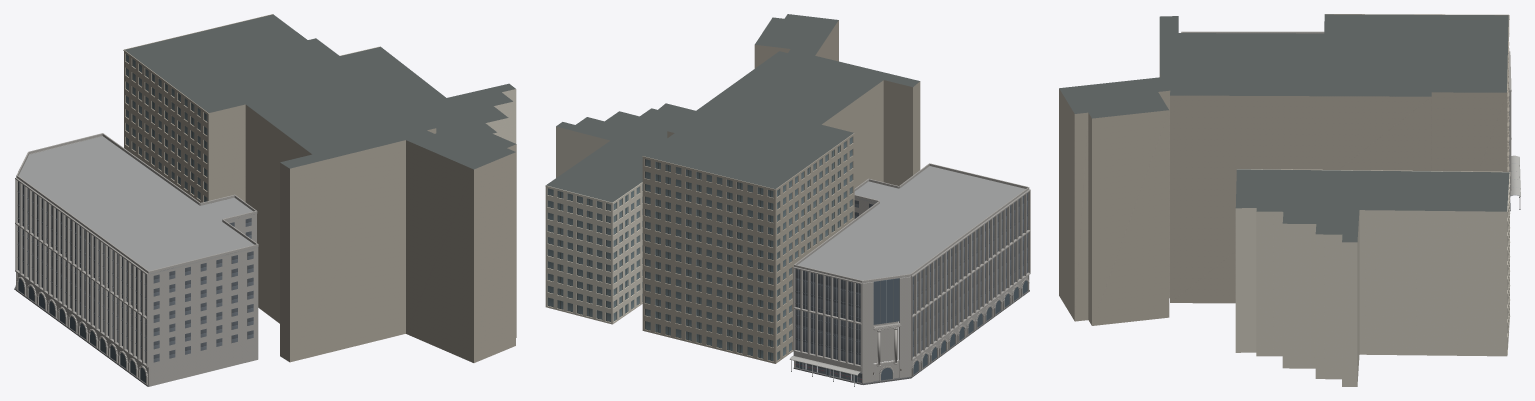
File: near.gltf
The picture shows the model from 3 angles, left to right: view 1: azimuth 30°, elevation 25°; view 2: azimuth 150°, elevation 25°; view 3: azimuth 270°, elevation 25°; orthographic projection. The views are drawn at different scales.
Visible parts, largest first — view 1: cell-e000-s001_near_tile-wall, cell-e000-s001_near_roof, SouthRoof_concrete.001, SouthUpper_pale-stone.001, SouthShell_pale-stone.001, SouthUpper_glazing.001, SouthShell_glazing.001, cell-e000-s001_near_glass, SouthUpper_metal.001, SouthRoof_pale-stone.001, SouthGround_pale-stone.001, SouthGround_glass-dark.001 (+3 smaller); view 2: cell-e000-s001_near_tile-wall, cell-e000-s001_near_roof, SouthUpper_pale-stone.001, cell-e000-s001_near_glass, SouthRoof_concrete.001, cell-e000-s001_near_plaster, SouthUpper_glazing.001, cell-e000-s001_near_frame, SouthUpper_metal.001, SouthGround_pale-stone.001, SouthRoof_pale-stone.001, SouthUpper_glazing-blinds.001 (+4 smaller); view 3: cell-e000-s001_near_tile-wall, cell-e000-s001_near_roof, cell-e000-s001_near_plaster, SouthRoof_pale-stone.001.
Part boxes in pixels (x1,y1,x2,y2): cell-e000-s001_near_tile-wall: (123,14,516,362); cell-e000-s001_near_roof: (125,14,516,169); SouthRoof_concrete.001: (18,136,257,274); SouthUpper_pale-stone.001: (15,136,149,367); SouthShell_pale-stone.001: (148,214,258,386); SouthUpper_glazing.001: (18,181,141,359); SouthShell_glazing.001: (153,218,253,362); cell-e000-s001_near_glass: (126,54,207,201); SouthUpper_metal.001: (19,182,146,363); SouthRoof_pale-stone.001: (16,133,258,273); SouthGround_pale-stone.001: (16,273,150,386); SouthGround_glass-dark.001: (18,279,146,382); cell-e000-s001_near_tile-wall: (642,20,920,363); cell-e000-s001_near_roof: (546,14,919,202); SouthUpper_pale-stone.001: (793,189,1030,383); cell-e000-s001_near_glass: (547,137,852,360); SouthRoof_concrete.001: (798,166,1025,283); cell-e000-s001_near_plaster: (545,126,642,324); SouthUpper_glazing.001: (795,196,1023,363); cell-e000-s001_near_frame: (548,143,852,361); SouthUpper_metal.001: (798,193,1026,364); SouthGround_pale-stone.001: (793,276,1029,382); SouthRoof_pale-stone.001: (794,163,1029,282); SouthUpper_glazing-blinds.001: (810,193,1027,364); cell-e000-s001_near_tile-wall: (1059,14,1509,325); cell-e000-s001_near_roof: (1059,14,1509,242); cell-e000-s001_near_plaster: (1235,169,1510,386); SouthRoof_pale-stone.001: (1181,31,1509,90).
Bounding box in the file's own units: 108 × 44.82 × 90.38.
Materials: 18 (7 with a texture image).
